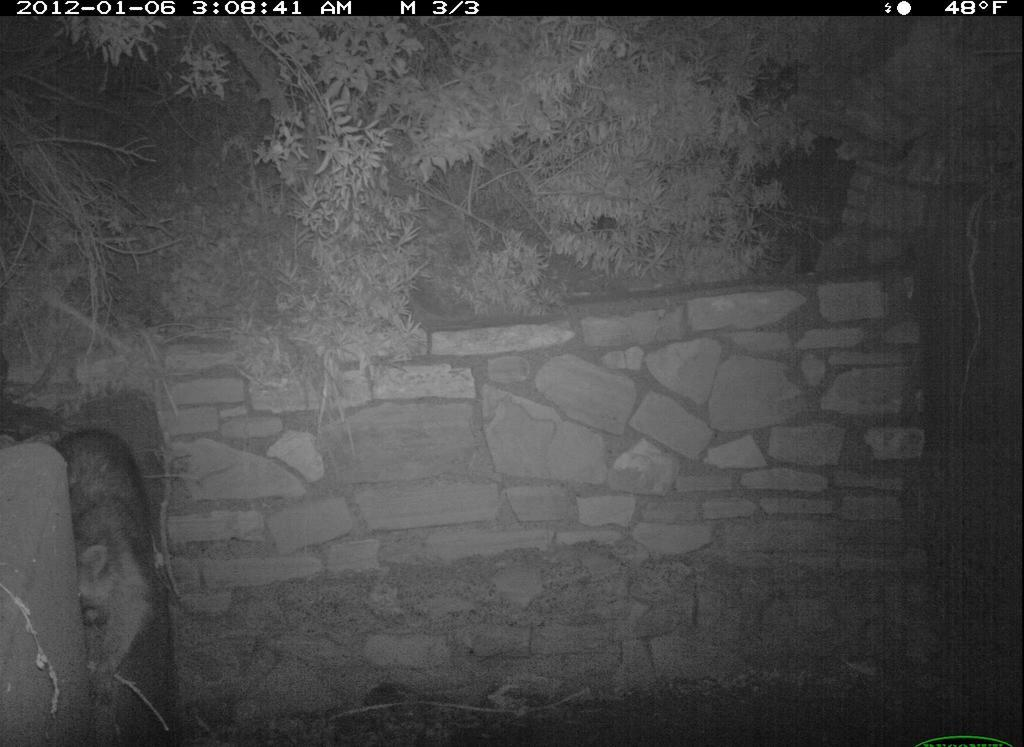raccoon: (47, 423, 166, 703)
